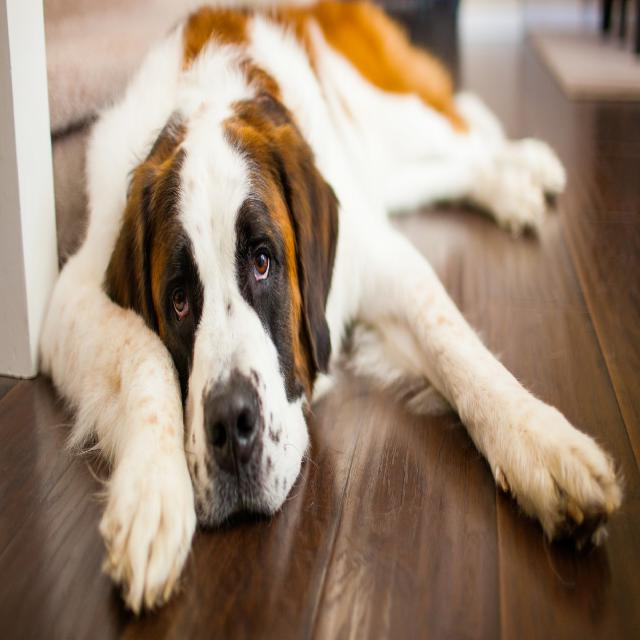eye: (250, 239, 274, 290), (170, 280, 191, 326)
